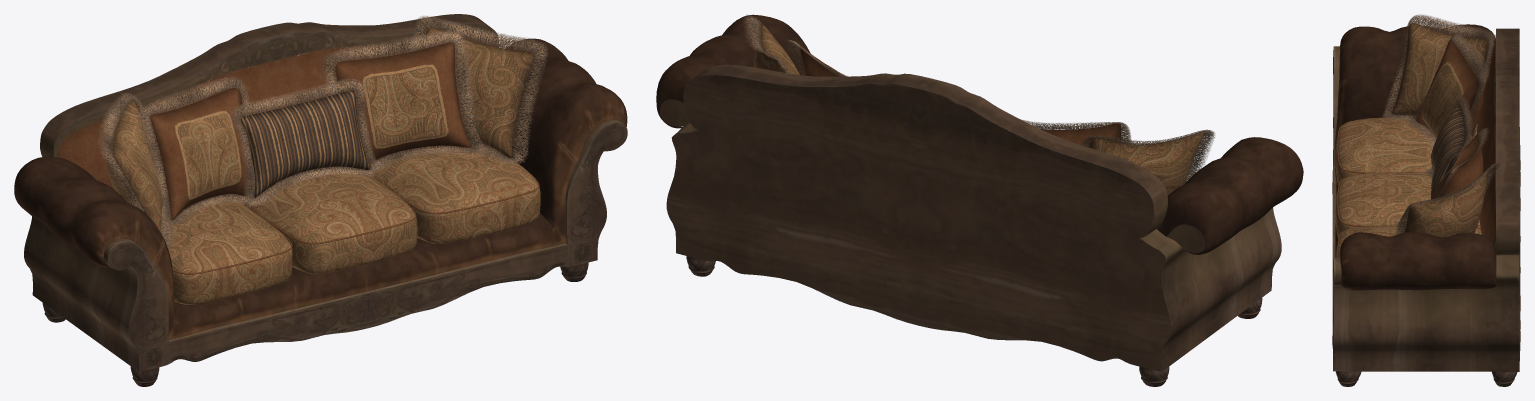
The model's file is sheen_wood_leather_sofa.glb.
3 renders of one model, left to right at view 1: azimuth 30°, elevation 25°; view 2: azimuth 150°, elevation 25°; view 3: azimuth 270°, elevation 25°, orthographic. The views are drawn at different scales.
Parts seen in each view (by area): view 1: Frame, Paisley, Fringe, Brown, Stripes, Frame_Fabric; view 2: Frame, Paisley, Fringe, Brown; view 3: Frame, Paisley, Fringe, Brown, Frame_Fabric, Stripes.
Part boxes in pixels (<box>): Frame: <box>14,14,627,386</box>; Paisley: <box>107,27,540,304</box>; Fringe: <box>98,16,547,246</box>; Brown: <box>150,42,539,274</box>; Stripes: <box>174,64,448,199</box>; Frame_Fabric: <box>57,34,494,189</box>; Frame: <box>656,14,1303,386</box>; Paisley: <box>754,23,1204,194</box>; Fringe: <box>743,14,1215,182</box>; Brown: <box>800,46,1121,147</box>; Frame: <box>1332,24,1520,386</box>; Paisley: <box>1335,23,1487,257</box>; Fringe: <box>1382,14,1499,235</box>; Brown: <box>1336,40,1483,257</box>; Frame_Fabric: <box>1477,39,1495,245</box>; Stripes: <box>1422,61,1472,198</box>.
Size of the model in its own units: 2.73 by 1.12 by 0.9231.
Materials: 6 (6 with a texture image).
